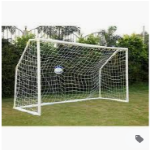goals: (13, 38, 131, 116)
